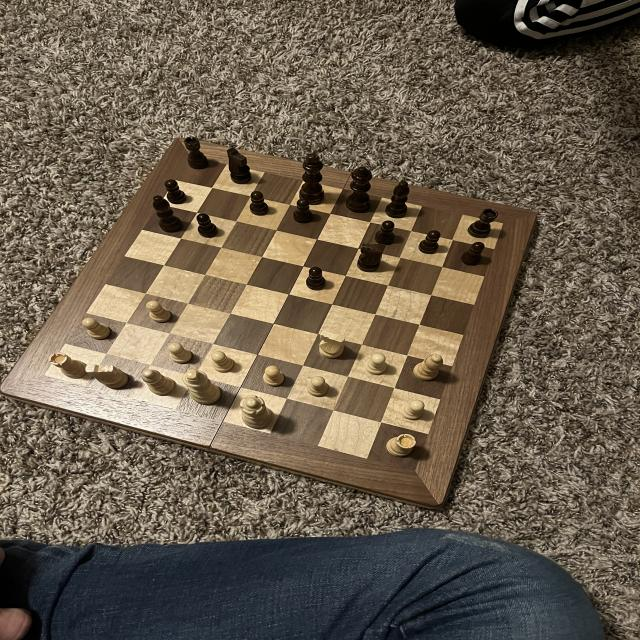bishop: (149, 193, 185, 235), (382, 178, 412, 220)
black-bishop: (296, 150, 327, 206)
black-king: (223, 144, 255, 186), (354, 241, 387, 274)
black-knight: (459, 240, 487, 268), (291, 197, 315, 227), (162, 178, 188, 205), (372, 220, 398, 246), (417, 229, 442, 256), (195, 212, 219, 238), (304, 266, 328, 292), (248, 189, 271, 216)
black-pawn: (344, 163, 373, 213)
black-queen: (466, 207, 499, 240), (182, 134, 210, 172)
black-rook: (140, 368, 178, 398), (411, 352, 445, 382)
white-bishop: (182, 367, 222, 407)
white-king: (85, 362, 132, 391), (318, 329, 347, 359)
white-knight: (80, 316, 112, 342), (209, 350, 237, 374), (304, 376, 333, 399), (364, 352, 390, 377), (146, 299, 173, 323), (400, 398, 427, 422), (166, 342, 194, 365), (260, 364, 286, 387)
white-pawn: (237, 394, 277, 431)
white-queen: (48, 352, 90, 381), (384, 433, 420, 459)
